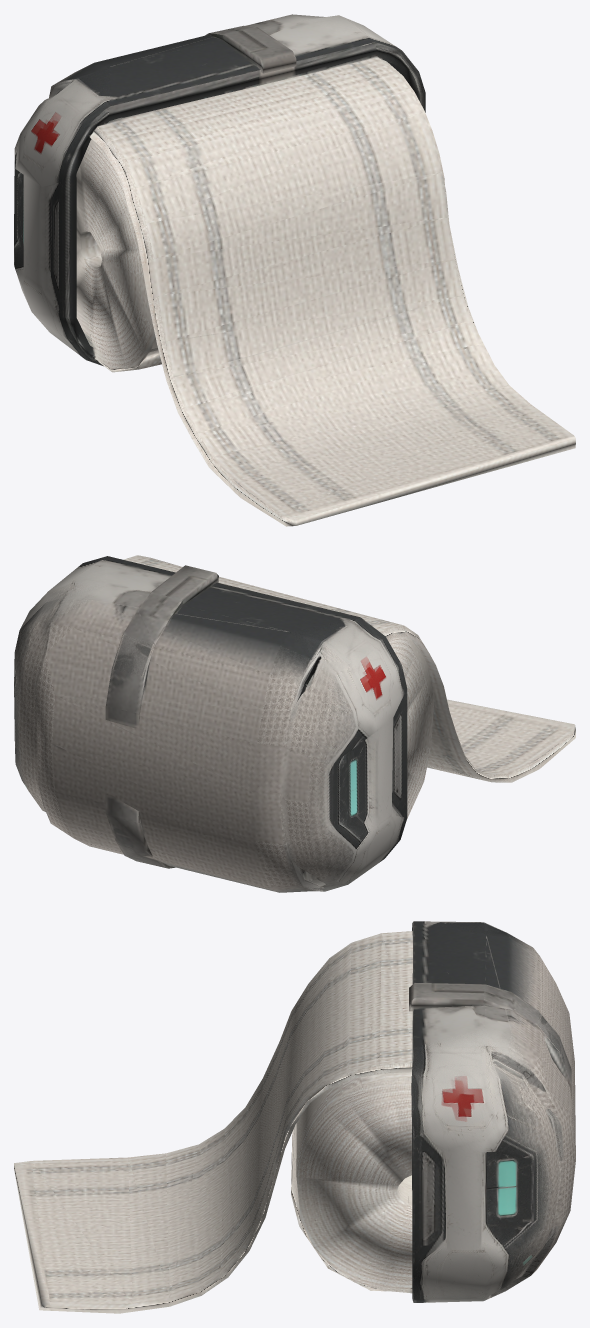
The model's file is bandage-original.glb.
The picture shows the model from 3 angles, top to bottom: view 1: azimuth 30°, elevation 25°; view 2: azimuth 150°, elevation 25°; view 3: azimuth 270°, elevation 25°; orthographic projection. The views are drawn at different scales.
Bounding box in the file's own units: 0.7422 × 0.5391 × 1.
Materials: 1 (1 with a texture image).
